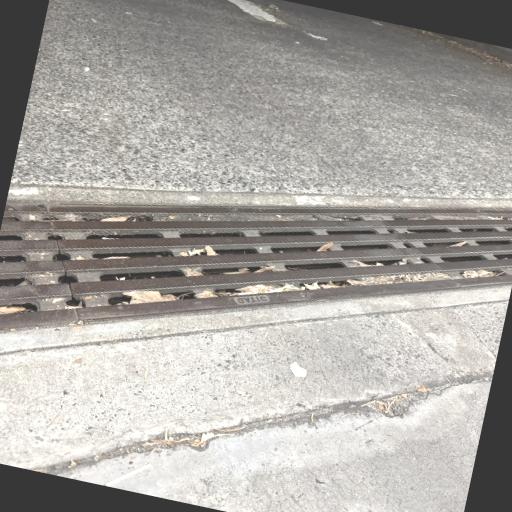gutter: (0, 202, 512, 328)
